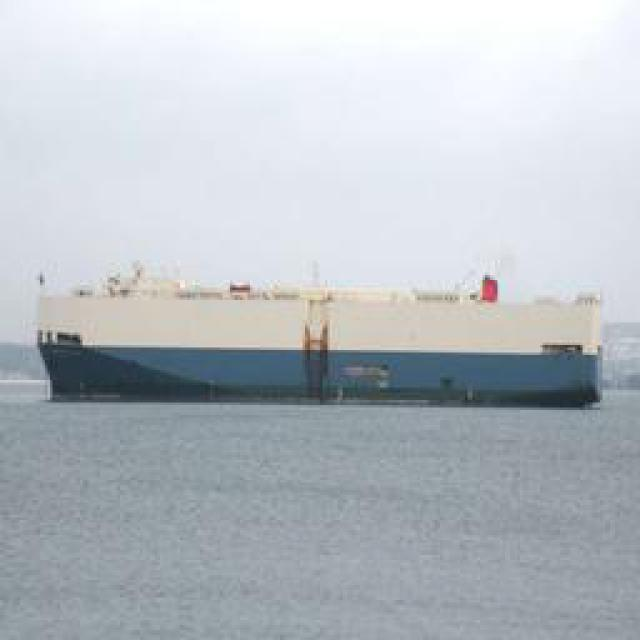Ship: (31, 278, 599, 403)
